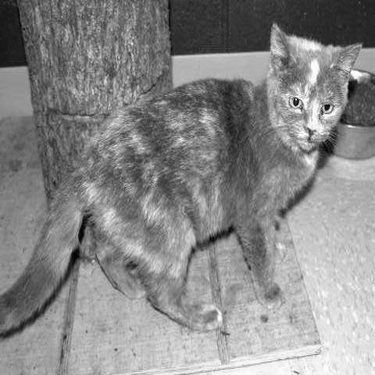cat: (1, 16, 365, 354)
